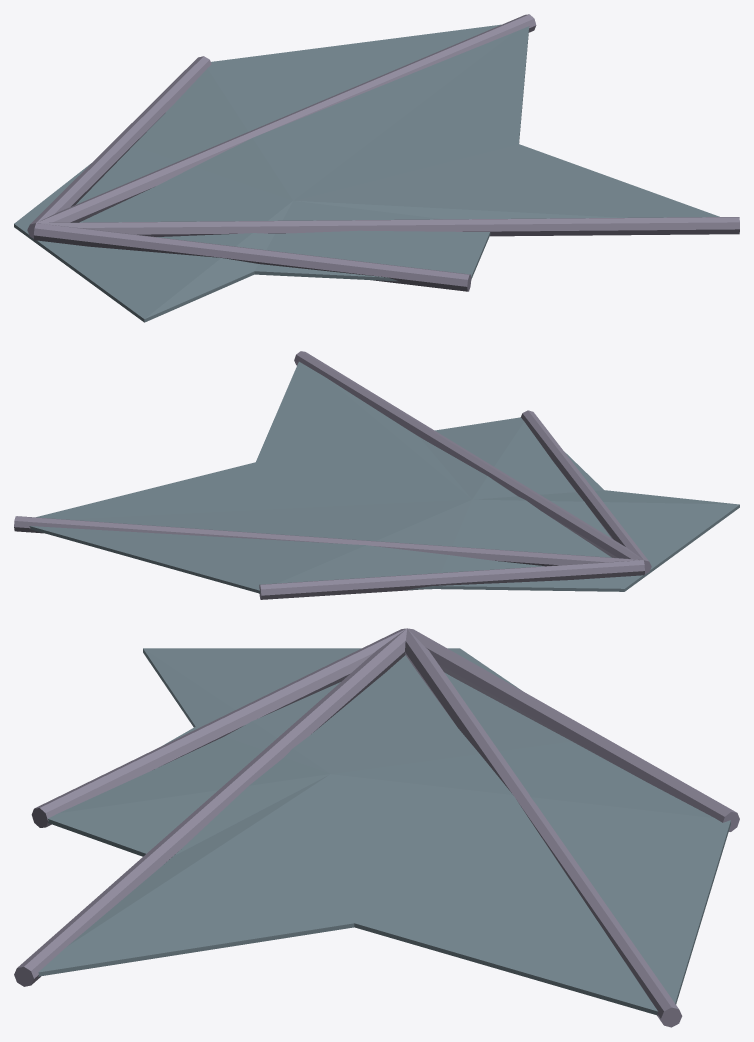
File: wing_r_lod0.glb
3 views of the same model, one above another, from view 1: azimuth 30°, elevation 25°; view 2: azimuth 150°, elevation 25°; view 3: azimuth 270°, elevation 25° (orthographic). The views are drawn at different scales.
Visible parts, largest first — view 1: devil_wing_r_LOD0; view 2: devil_wing_r_LOD0; view 3: devil_wing_r_LOD0.
Boxes of the visible parts, x1=… form: devil_wing_r_LOD0: x1=14, y1=14, x2=739, y2=322; devil_wing_r_LOD0: x1=14, y1=351, x2=739, y2=599; devil_wing_r_LOD0: x1=14, y1=628, x2=739, y2=1027.
Size of the model in its own units: 6.48 by 0.35 by 5.49.
